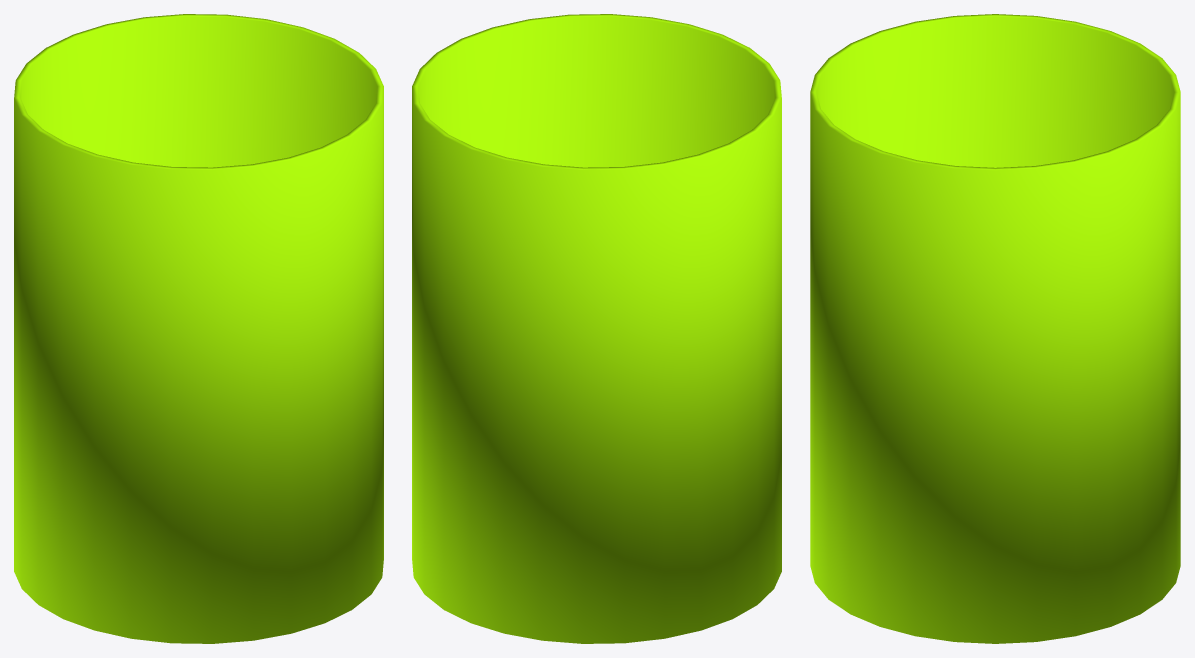
Rendered from Trashcan_A_COL.FBX.
3 views of the same model, side by side, from view 1: azimuth 30°, elevation 25°; view 2: azimuth 150°, elevation 25°; view 3: azimuth 270°, elevation 25° (orthographic).
Parts seen in each view (by area): view 1: Trashcan_A_COL; view 2: Trashcan_A_COL; view 3: Trashcan_A_COL.
Boxes of the visible parts, bbox=[...] form: Trashcan_A_COL: bbox=[14, 14, 383, 643]; Trashcan_A_COL: bbox=[412, 14, 781, 643]; Trashcan_A_COL: bbox=[810, 14, 1180, 643].
Bounding box in the file's own units: 64.61 × 91.08 × 64.61.
